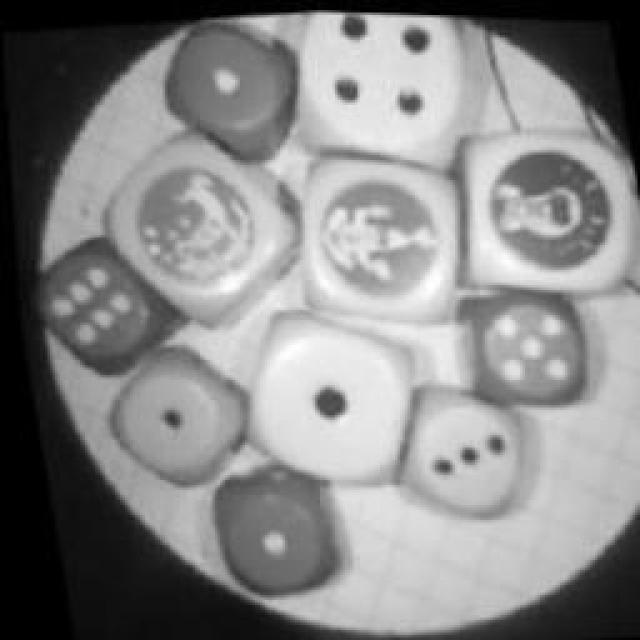dice_1: (224, 282, 444, 508), (83, 320, 265, 508), (144, 8, 308, 170), (195, 445, 353, 603)
dice_3: (373, 362, 545, 540)
dice_5: (435, 272, 595, 416)
dice_6: (15, 215, 187, 393)
